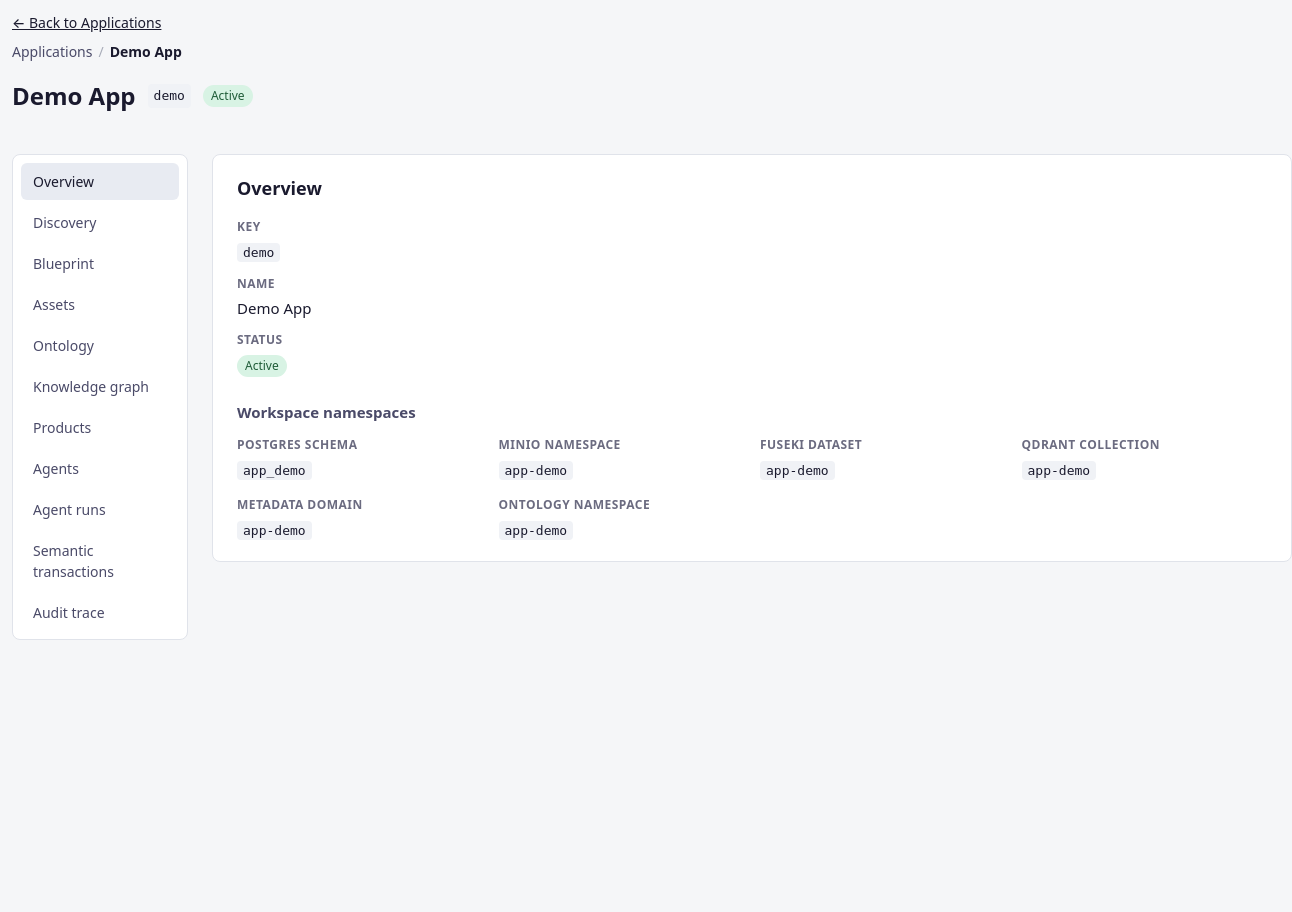
Test case: ApplicationDetailPage › navigates to blueprints list
The image size is (1292, 912).
Expected: the heading "Demo App" is shown, x1=12 y1=78 x2=136 y2=114
Click the link "Blueprint". click: (64, 264)
box: x1=33 y1=254 x2=94 y2=273
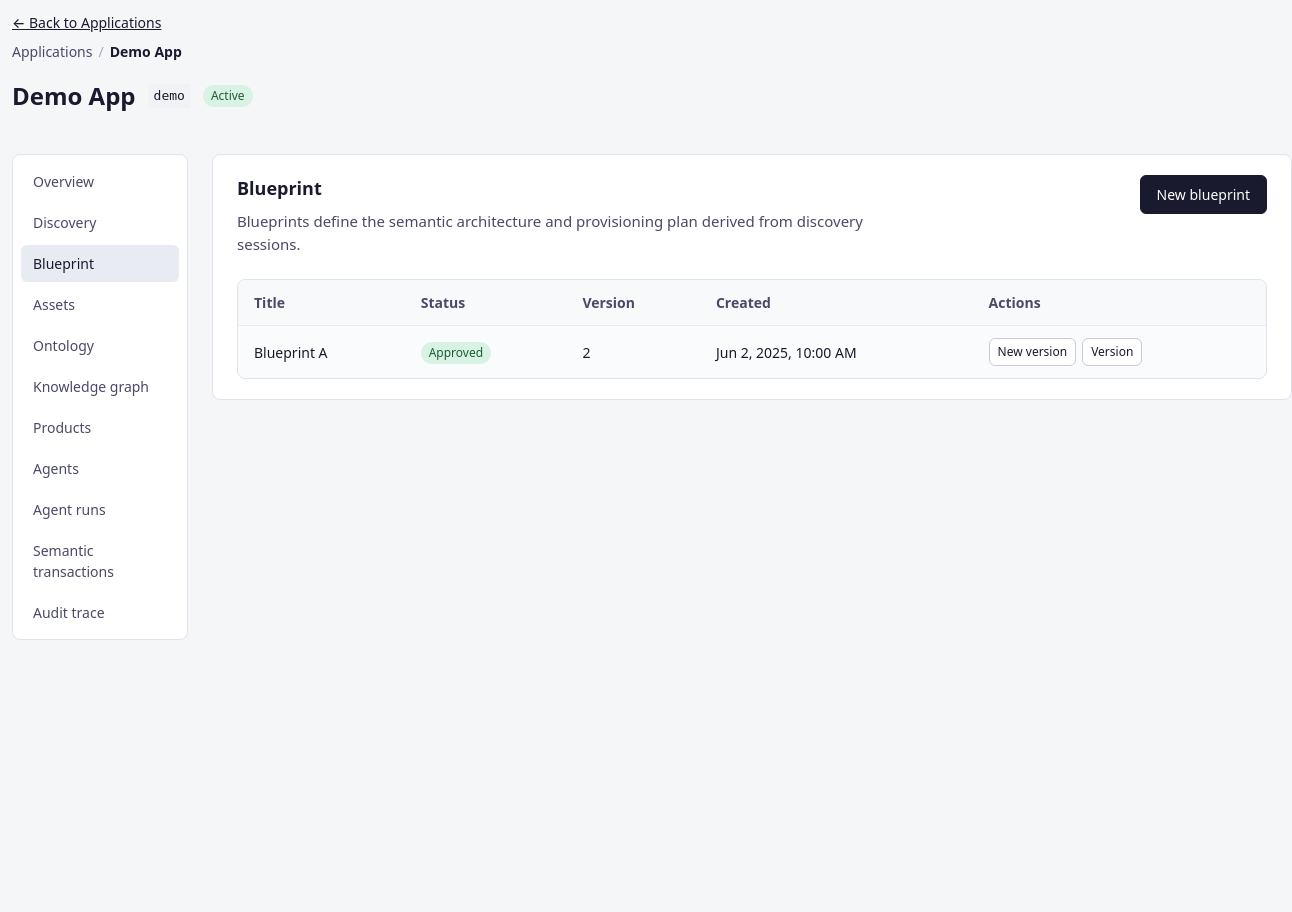
Expected: the text "Blueprint A" is shown, x1=238 y1=326 x2=405 y2=378
Expected: the heading "Blueprint" is shown, x1=237 y1=176 x2=322 y2=200
